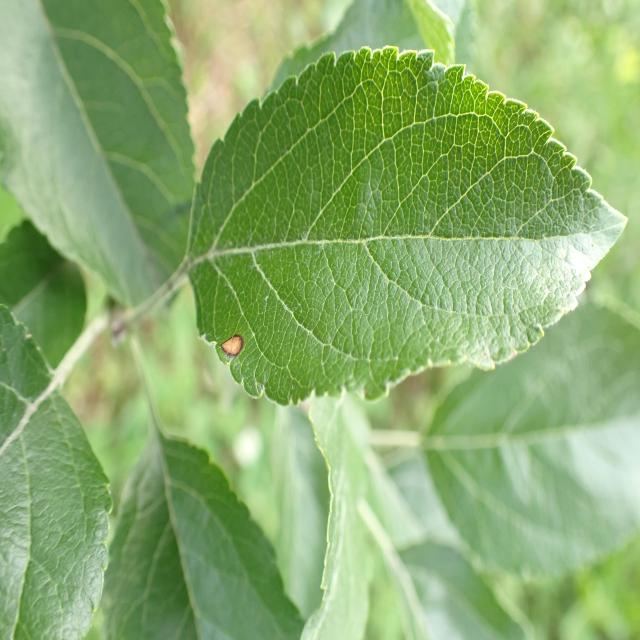Black Rot: (215, 299, 267, 397)
